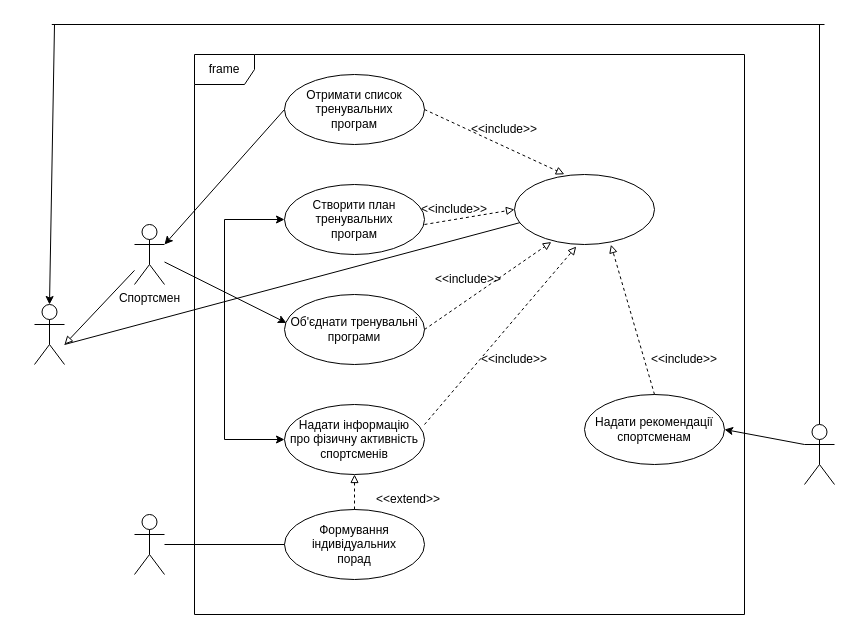
Image size: 858x632. Some labels were removed from this diagram. Here are the shapes that lost their labels. From the top down, the centre of each, then its label:
At (584,209): "Сповісти спортсмена через онлайн повідомлення".
At (49,334): "Користувач".
At (819,454): "Експерт".
At (149,544): "EAdvice".
